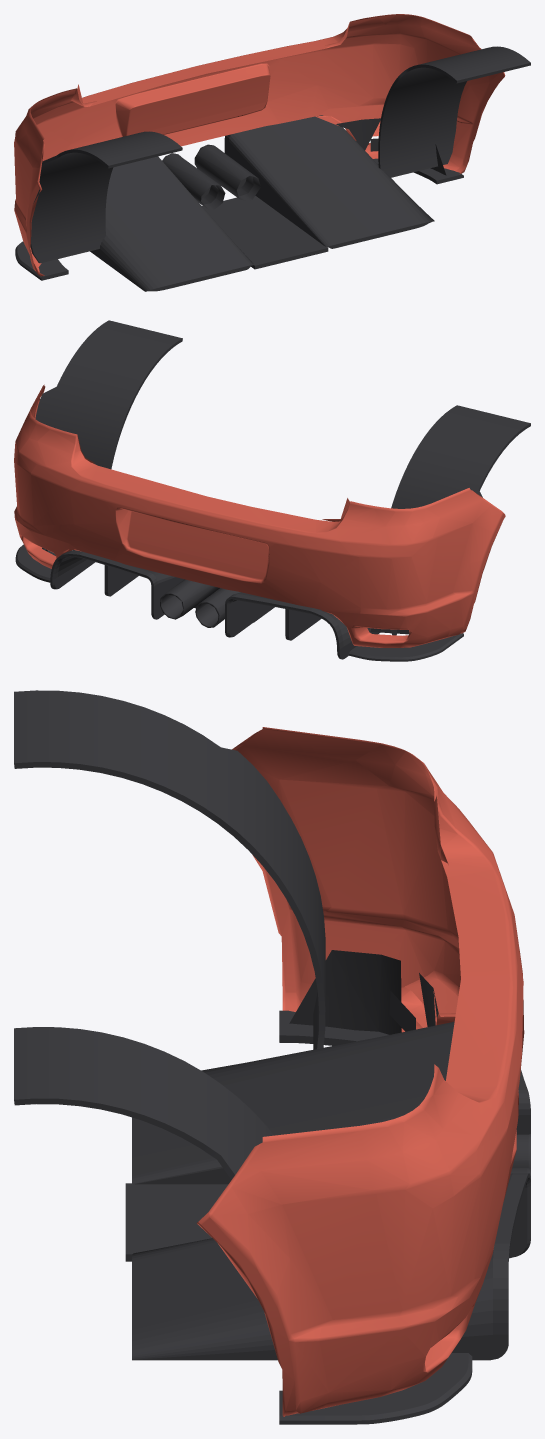
File: wendtStrom_rearBumper_trackMild.glb
The picture shows the model from 3 angles, top to bottom: view 1: azimuth 30°, elevation 25°; view 2: azimuth 150°, elevation 25°; view 3: azimuth 270°, elevation 25°; orthographic projection. The views are drawn at different scales.
Parts seen in each view (by area): view 1: rearBumper_trackMild; view 2: rearBumper_trackMild; view 3: rearBumper_trackMild.
Part boxes in pixels (x1,y1,x2,y2): rearBumper_trackMild: [14, 14, 530, 291]; rearBumper_trackMild: [14, 320, 530, 661]; rearBumper_trackMild: [14, 690, 530, 1424].
Size of the model in its own units: 1.7 by 0.5838 by 0.8247.
